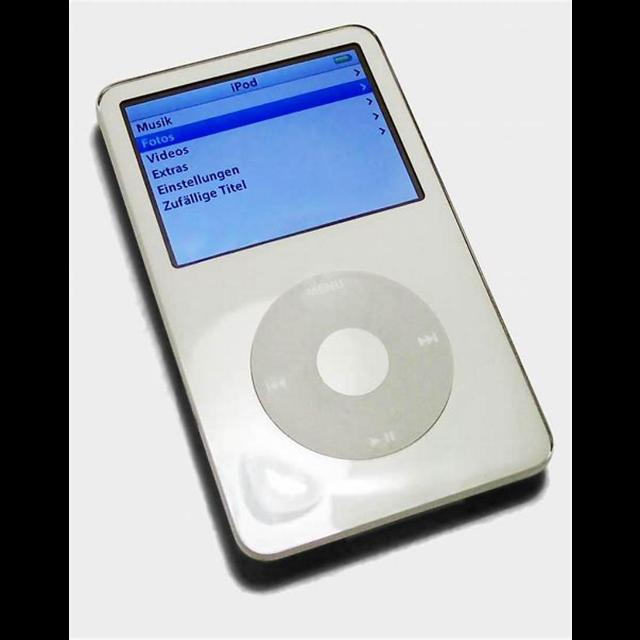Music-Player: (90, 22, 554, 580)
